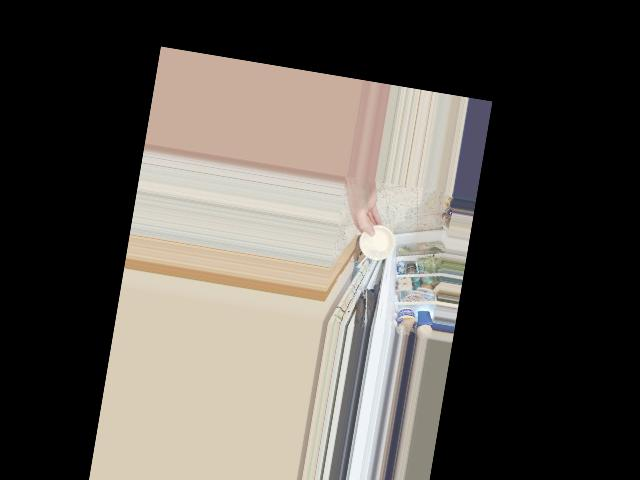cotage: (355, 220, 392, 260)
